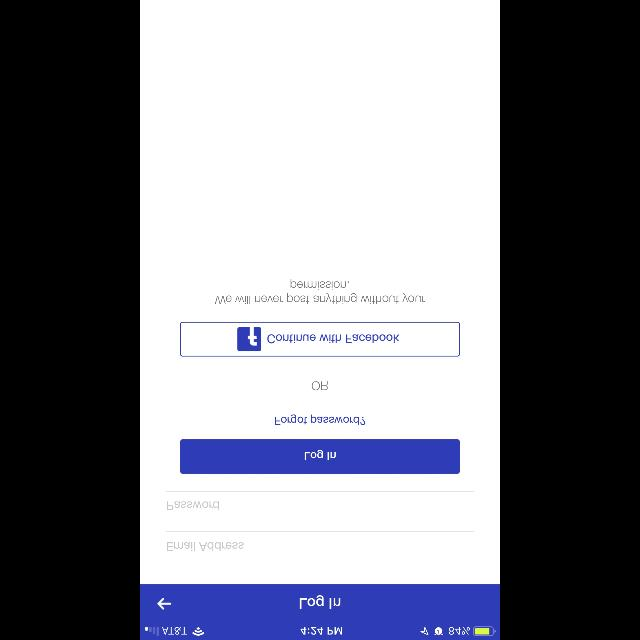icon: (158, 597, 172, 609)
input: (166, 531, 474, 551), (166, 490, 474, 510)
text: (215, 280, 425, 304), (275, 414, 365, 426), (168, 542, 245, 550), (300, 595, 342, 609), (167, 502, 219, 511), (312, 382, 328, 391)
textbutton: (180, 438, 460, 474), (180, 322, 460, 356)
uppertaskbar: (140, 626, 500, 640)
